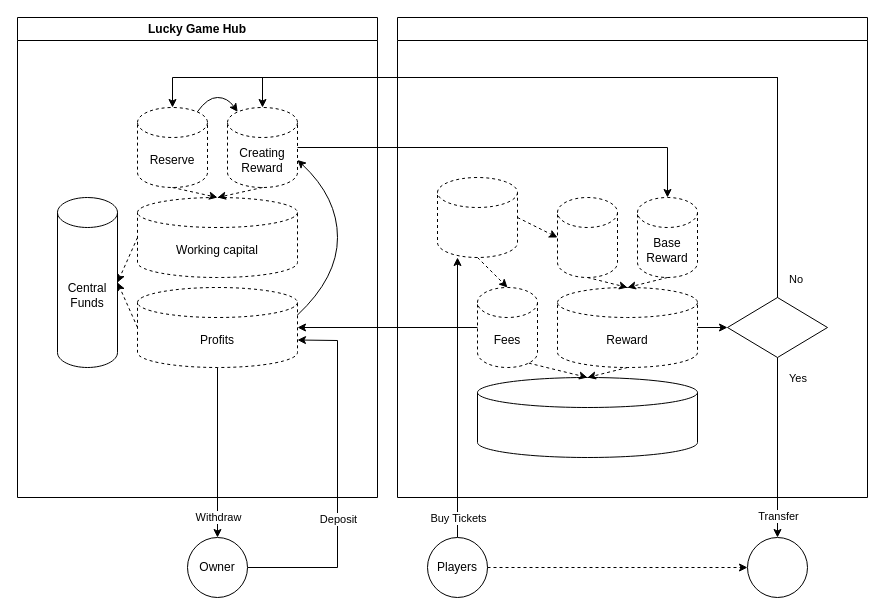
Image size: 885x615. Some labels were removed from this diagram. Each missing label, with the box of its shape:
Has winners?: (726, 296, 828, 358)
Income: (436, 176, 518, 258)
Local Funds: (476, 376, 698, 458)
Lucky Game: (396, 16, 868, 498)
Perform- ance Reward: (556, 196, 618, 278)
Winners: (746, 536, 808, 598)
